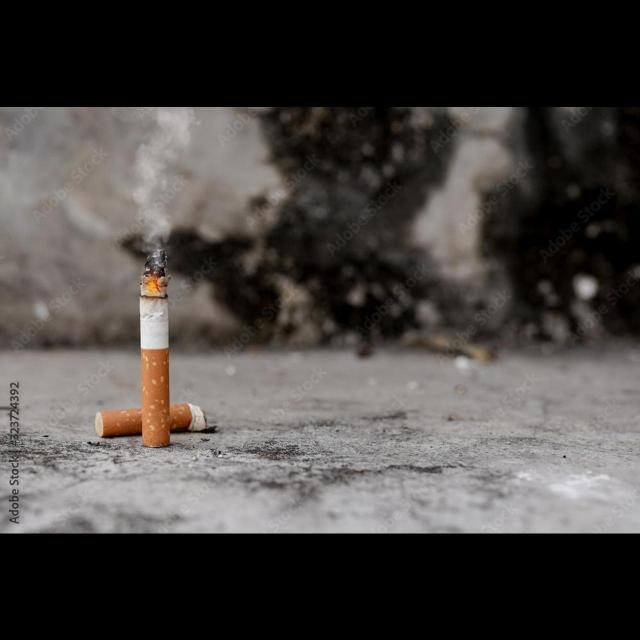cigarette: (140, 246, 171, 448), (95, 403, 207, 437)
